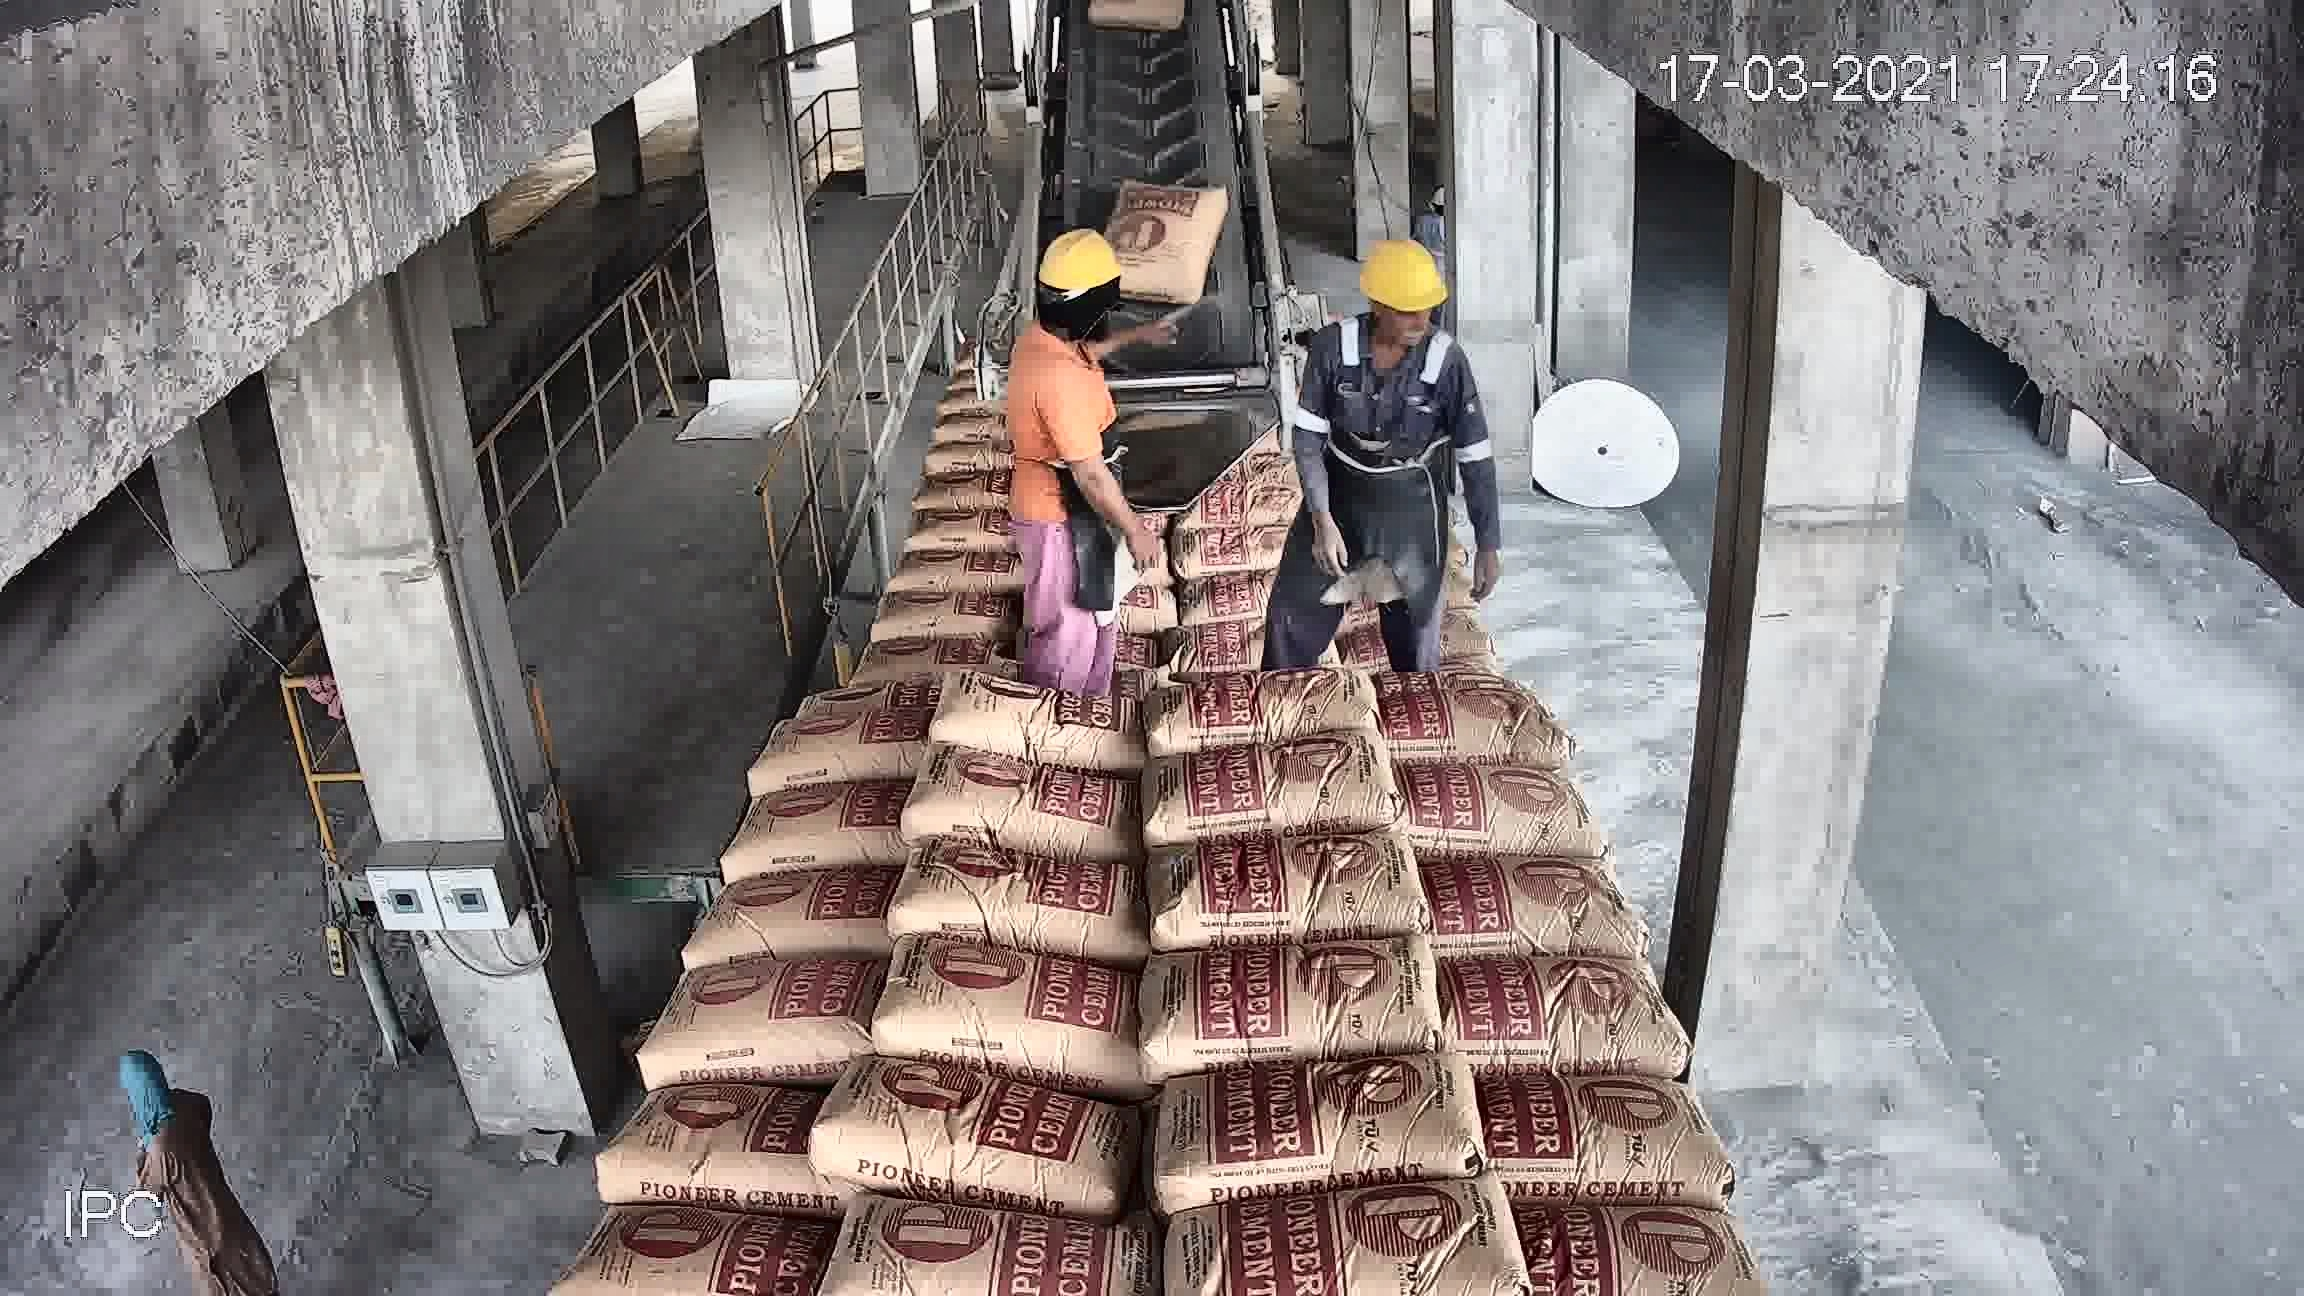bag: (1116, 161, 1199, 272)
bag_h: (812, 1055, 1144, 1203), (1168, 1051, 1468, 1211), (878, 911, 1171, 1071), (1449, 1043, 1742, 1193), (1158, 1187, 1537, 1296), (1146, 818, 1435, 948), (1138, 943, 1448, 1063), (896, 756, 1173, 870), (606, 1071, 832, 1211), (810, 1209, 1152, 1296), (1429, 932, 1669, 1055), (543, 1203, 859, 1296), (642, 956, 900, 1070), (907, 836, 1108, 981), (1150, 731, 1402, 839), (1513, 1187, 1749, 1296), (1112, 658, 1388, 748), (942, 668, 1165, 777), (695, 859, 897, 980), (1165, 585, 1396, 684), (1423, 840, 1635, 946), (761, 635, 956, 731), (766, 693, 943, 798), (1378, 685, 1581, 775), (728, 775, 907, 877), (965, 601, 1154, 696), (798, 567, 980, 657), (1415, 761, 1595, 847), (1158, 527, 1362, 600), (812, 524, 997, 600), (975, 565, 1135, 644), (1157, 445, 1332, 514), (1336, 563, 1522, 625), (1168, 487, 1343, 543), (829, 486, 992, 543), (1331, 468, 1484, 525), (1391, 638, 1549, 692), (1334, 530, 1500, 578), (994, 516, 1143, 568), (1315, 407, 1434, 468), (907, 392, 1024, 453), (1006, 475, 1146, 521), (1320, 380, 1416, 432), (916, 426, 1014, 476), (913, 453, 1010, 498)
belt: (1055, 9, 1266, 279)
